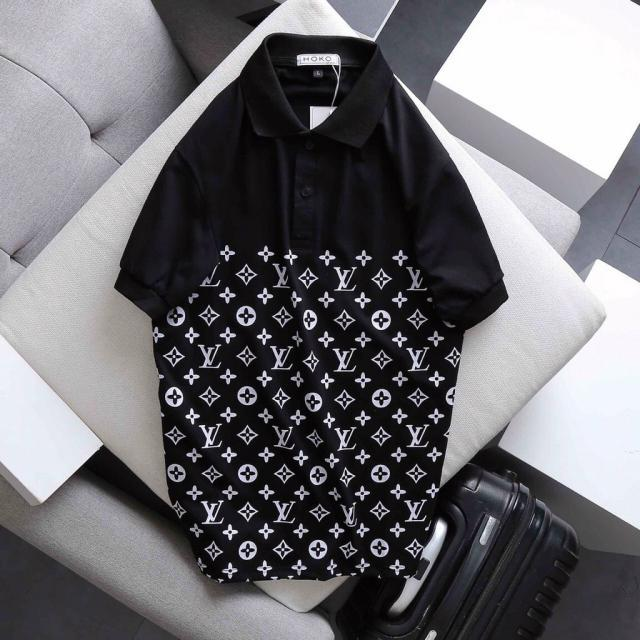Shirt: (113, 26, 511, 576)
